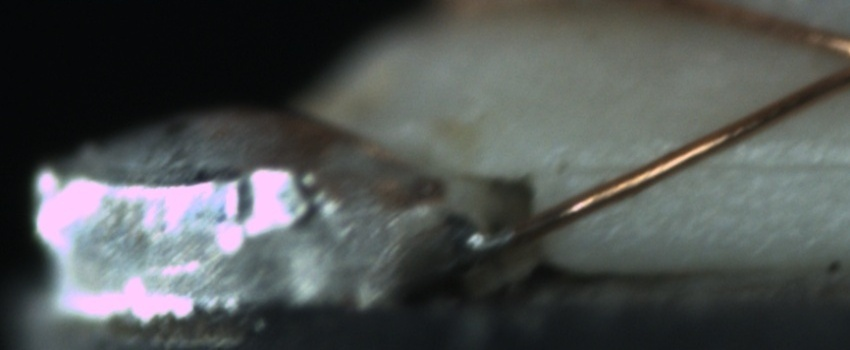DL: (558, 135, 848, 196)
